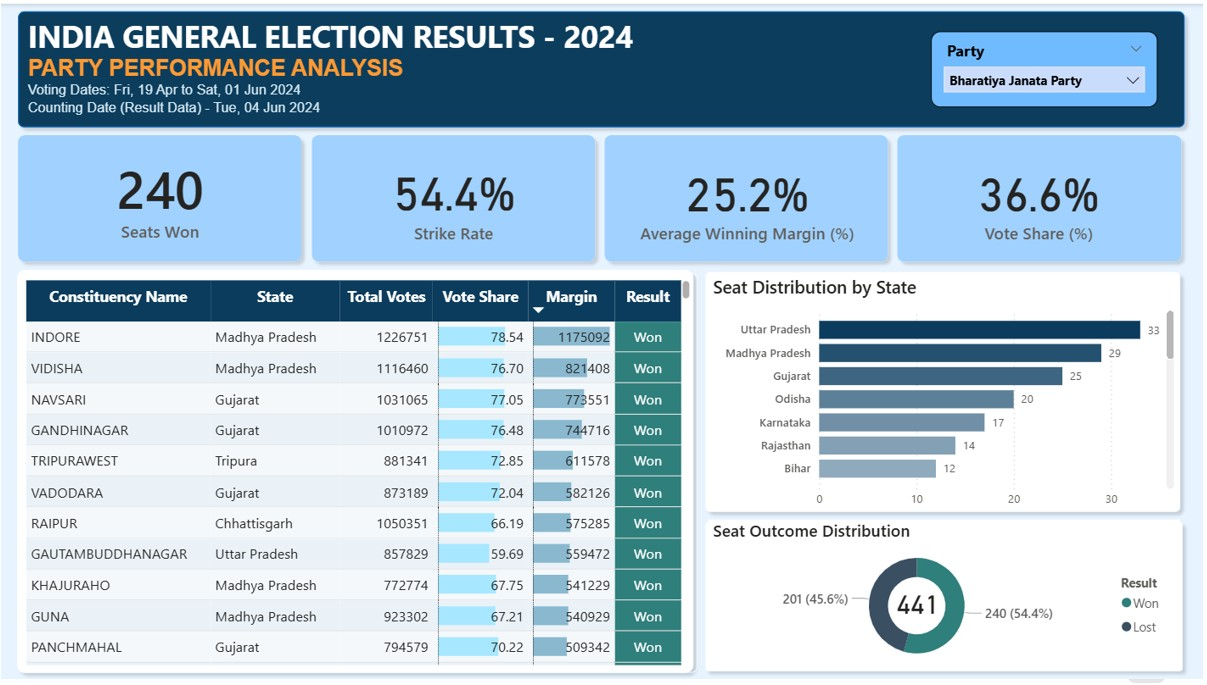

Layout of this report page (visuals, bound fields, positions):
{"tool":"powerbi","page":{"name":"Party Performance Analysis","canvas":[1280,720],"ordinal":3},"visuals":[{"type":"shape","box":[9.8,0,1255.8,139.4],"z":0},{"type":"textbox","box":[23.8,8.3,672.9,120.1],"z":1000},{"type":"shape","box":[9.8,132.1,317,150.4],"z":2000},{"type":"slicer","fields":{"Values":["Party_Dim.Party"]},"box":[988,29.3,240.9,80.7],"z":3000},{"type":"card","fields":{"Values":["partywise_results.Seats Won"]},"box":[21,139.4,295.9,133.3],"z":4000},{"type":"shape","box":[322,132,317,150.4],"z":5000},{"type":"shape","box":[634,132,317,150.4],"z":6000},{"type":"shape","box":[945,132,318,150.4],"z":7000},{"type":"card","fields":{"Values":["partywise_results.Strike Rate"]},"box":[331,142,300,132],"z":8000},{"type":"card","fields":{"Values":["constituencywise_details.Win Margin %"]},"box":[644,142,299.6,133.3],"z":9000},{"type":"card","fields":{"Values":["partywise_results.Party Vote Share %"]},"box":[954,141.8,299.6,133.3],"z":10000},{"type":"shape","box":[8.6,275,734.9,445.1],"z":11000},{"type":"shape","box":[741,277,520.9,271.5],"z":12000},{"type":"shape","box":[741,543,523.4,175],"z":14000},{"type":"tableEx","fields":{"Values":["constituencywise_results.Constituency Name","states.State","constituencywise_results.Total Votes","Sum(constituencywise_details.% of Votes)","constituencywise_details.Display Margin","constituencywise_details.Result"]},"box":[18.3,286.1,722.7,425.5],"z":15000},{"type":"barChart","title":"Seat Distribution by State","fields":{"Category":["states.State"],"Y":["constituencywise_details.Seats Won by State"]},"box":[752,288,500.1,256.8],"z":16000},{"type":"donutChart","title":"Seat Outcome Distribution","fields":{"Y":["CountNonNull(constituencywise_details.Constituency ID)"],"Category":["constituencywise_details.Result"]},"box":[752,549.1,501.4,161.4],"z":17000},{"type":"card","fields":{"Values":["partywise_results.Seats Contested"]},"box":[945.2,619,57.5,39.1],"z":18000}]}

Visuals, with their boxes in screenshot pixels (x1, y1, x2, y2), scaled from the page's 1280x720 canvas onto the 1207x685 screenshot:
shape: <bbox>9, 0, 1193, 133</bbox>
textbox: <bbox>22, 8, 657, 122</bbox>
shape: <bbox>9, 126, 308, 269</bbox>
slicer - Party_Dim.Party: <bbox>932, 28, 1159, 105</bbox>
card - partywise_results.Seats Won: <bbox>20, 133, 299, 259</bbox>
shape: <bbox>304, 126, 603, 269</bbox>
shape: <bbox>598, 126, 897, 269</bbox>
shape: <bbox>891, 126, 1191, 269</bbox>
card - partywise_results.Strike Rate: <bbox>312, 135, 595, 261</bbox>
card - constituencywise_details.Win Margin %: <bbox>607, 135, 890, 262</bbox>
card - partywise_results.Party Vote Share %: <bbox>900, 135, 1182, 262</bbox>
shape: <bbox>8, 262, 701, 684</bbox>
shape: <bbox>699, 264, 1190, 522</bbox>
shape: <bbox>699, 517, 1192, 683</bbox>
tableEx - constituencywise_results.Constituency Name x states.State: <bbox>17, 272, 699, 677</bbox>
"Seat Distribution by State" barChart: <bbox>709, 274, 1181, 518</bbox>
"Seat Outcome Distribution" donutChart: <bbox>709, 522, 1182, 676</bbox>
card - partywise_results.Seats Contested: <bbox>891, 589, 946, 626</bbox>
